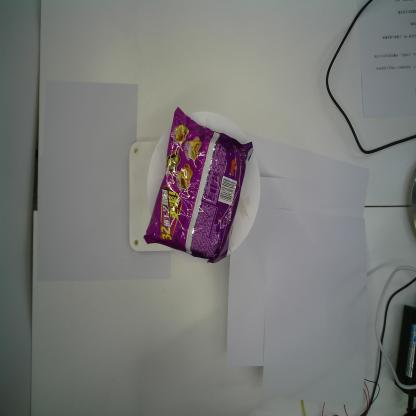Instant Noodles: (142, 104, 254, 264)
